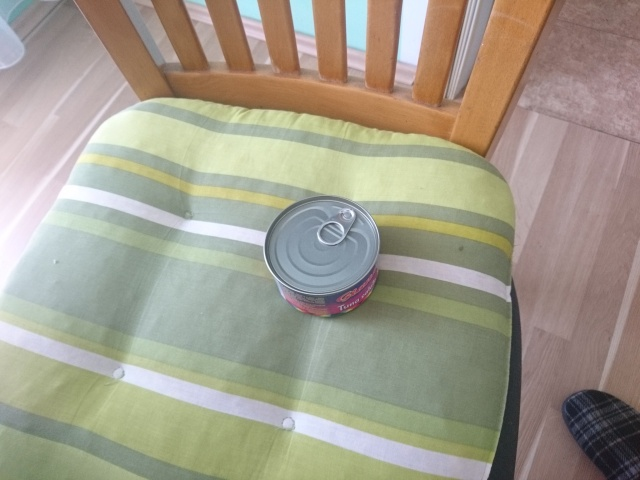Giana Tuna Salad Mexico 185g: (260, 193, 383, 320)
